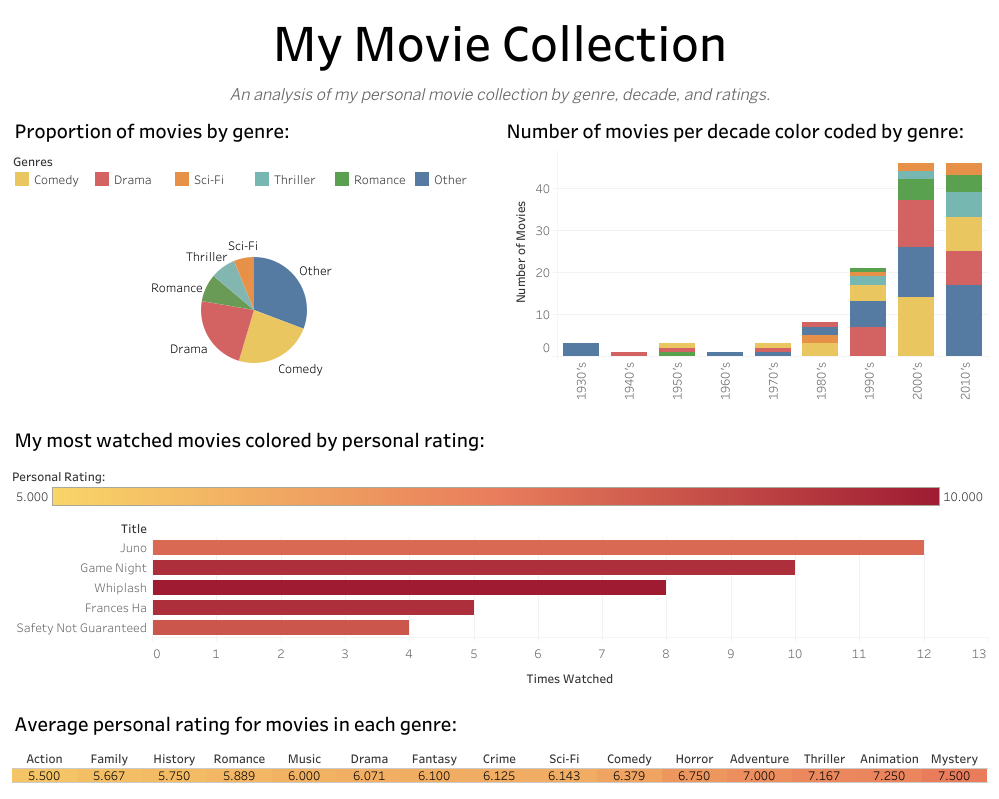

This screenshot's page, from the dashboard's own definition file:
{"tool":"tableau","page":{"name":"Dashboard 1 (2)","canvas":[1000,800],"ordinal":0},"visuals":[{"type":"text","box":[8,8,984,66]},{"type":"text","box":[8,74,984,40]},{"type":"text","box":[8,114,492,32]},{"type":"text","box":[500,114,492,32]},{"type":"legend","title":"Decades","param":"[federated.1tfu5jy0vys47y1c0wmuw1pfb2up].[attr:Calculation_1295558992330678275:n","box":[8,146,492,54]},{"type":"worksheet","title":"Decades","mark":"Automatic","rows":["movies_data2.csv_934A0AF731F44948AA515CD3FF27A831"],"box":[500,146,492,274]},{"type":"worksheet","title":"Genres","mark":"Pie","box":[8,200,492,220]},{"type":"text","box":[8,420,984,39]},{"type":"legend","title":"MostWatched","param":"[federated.1tfu5jy0vys47y1c0wmuw1pfb2up].[attr:personal_rating:qk]","box":[8,459,984,54]},{"type":"worksheet","title":"MostWatched","mark":"Automatic","rows":["title"],"cols":["times_watched"],"box":[8,513,984,190.3]},{"type":"text","box":[8,703.3,984,41.1]},{"type":"worksheet","title":"Rating","mark":"Square","cols":["genre_name"],"box":[8,744.4,984,47.6]}]}

Visuals, with their boxes in screenshot pixels (x1, y1, x2, y2), scaled from the page's 1000x800 canvas onto the 999x799 screenshot:
text: 8/8/991/74
text: 8/74/991/114
text: 8/114/500/146
text: 500/114/991/146
"Decades" legend: 8/146/500/200
"Decades" worksheet: 500/146/991/419
"Genres" worksheet (Pie marks): 8/200/500/419
text: 8/419/991/458
"MostWatched" legend: 8/458/991/512
"MostWatched" worksheet: 8/512/991/702
text: 8/702/991/743
"Rating" worksheet (Square marks): 8/743/991/791
